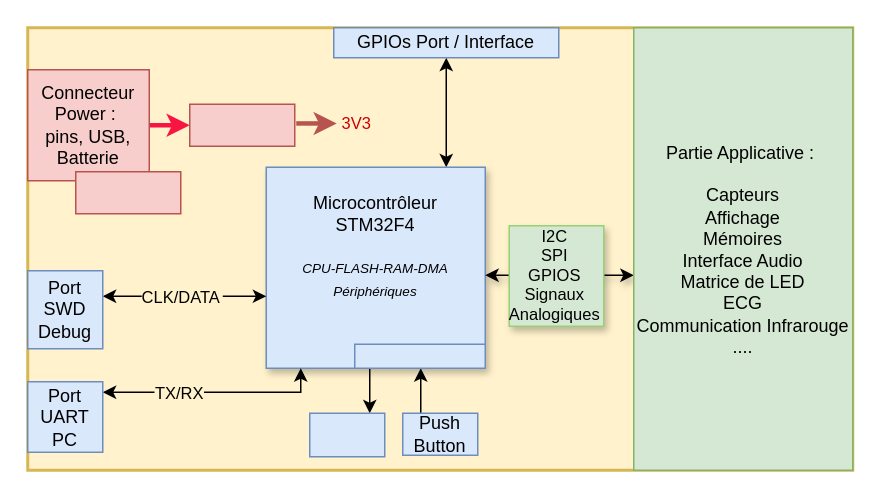
Image size: 879x497. Some labels were removed from this diagram. The centre of each missing label's shape, as x and y in pixels:
DC/DC: the point at 241,124
GPIO: the point at 419,355
LEDs: the point at 346,434
Protections: the point at 127,192
